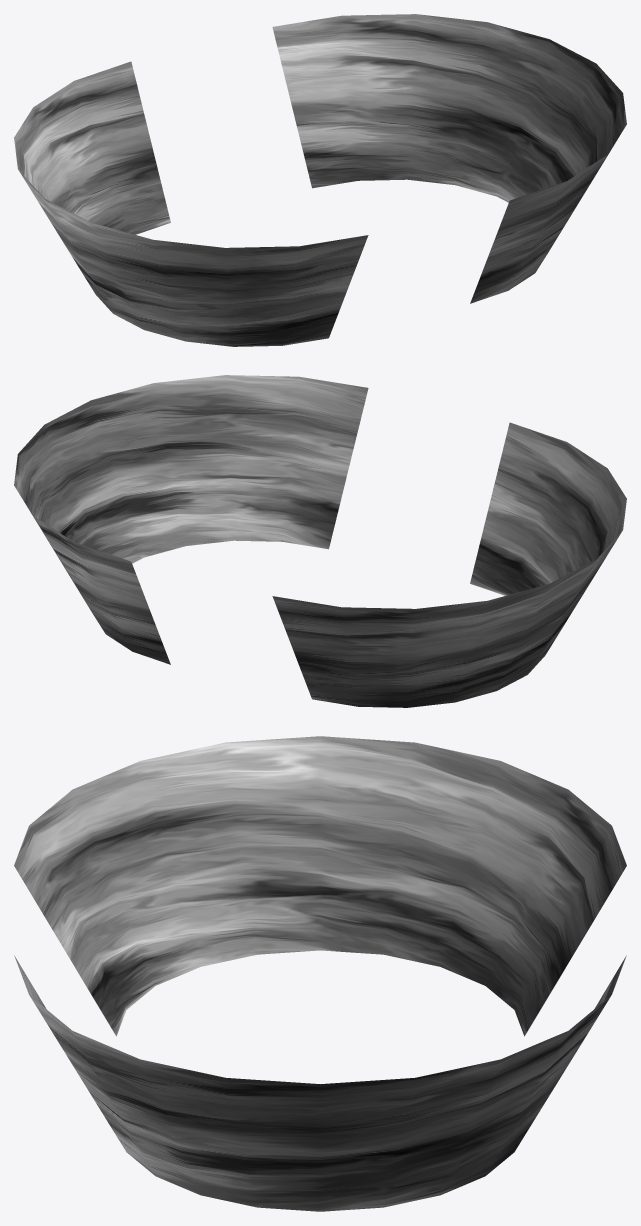
The model's file is Tornado.fbx.
3 views of the same model, one above another, from view 1: azimuth 30°, elevation 25°; view 2: azimuth 150°, elevation 25°; view 3: azimuth 270°, elevation 25° (orthographic). The views are drawn at different scales.
Parts seen in each view (by area): view 1: polySurface1, polySurface2; view 2: polySurface1, polySurface2; view 3: polySurface2, polySurface1.
Part boxes in pixels (bbox=[...]): polySurface1: bbox=[272, 14, 626, 303]; polySurface2: bbox=[14, 61, 368, 346]; polySurface1: bbox=[14, 375, 368, 664]; polySurface2: bbox=[272, 422, 626, 707]; polySurface2: bbox=[14, 736, 626, 1036]; polySurface1: bbox=[14, 955, 626, 1211].
Bounding box in the file's own units: 2208 × 506 × 1644.
